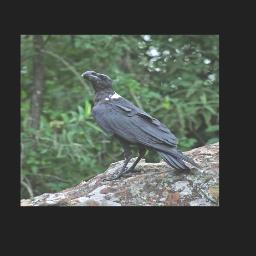Crow: (78, 69, 201, 182)
